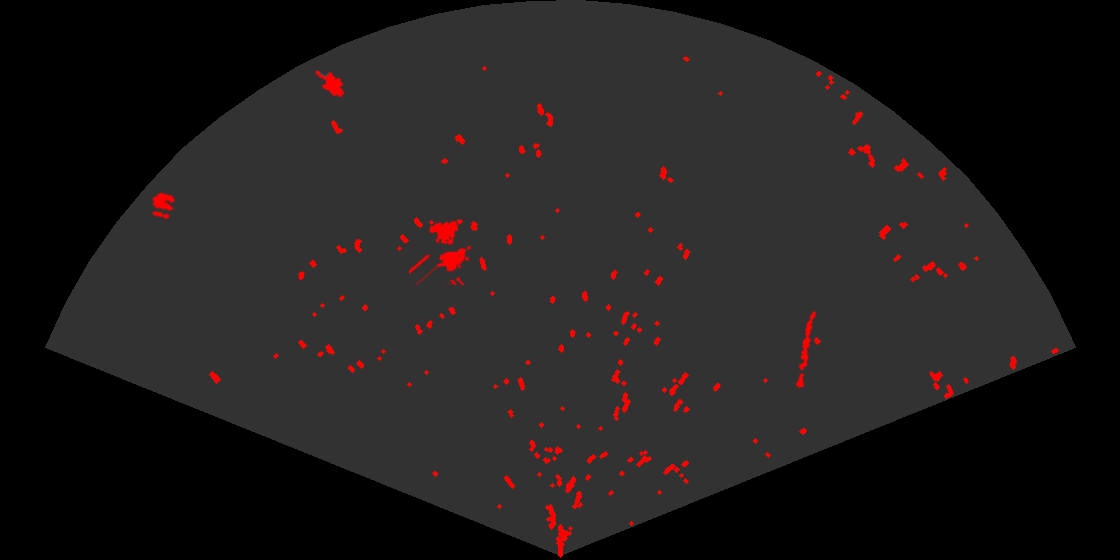AUV: (313, 69, 346, 99)
ball: (150, 191, 177, 221)
cage: (409, 219, 473, 285)
chain: (794, 309, 818, 390)
